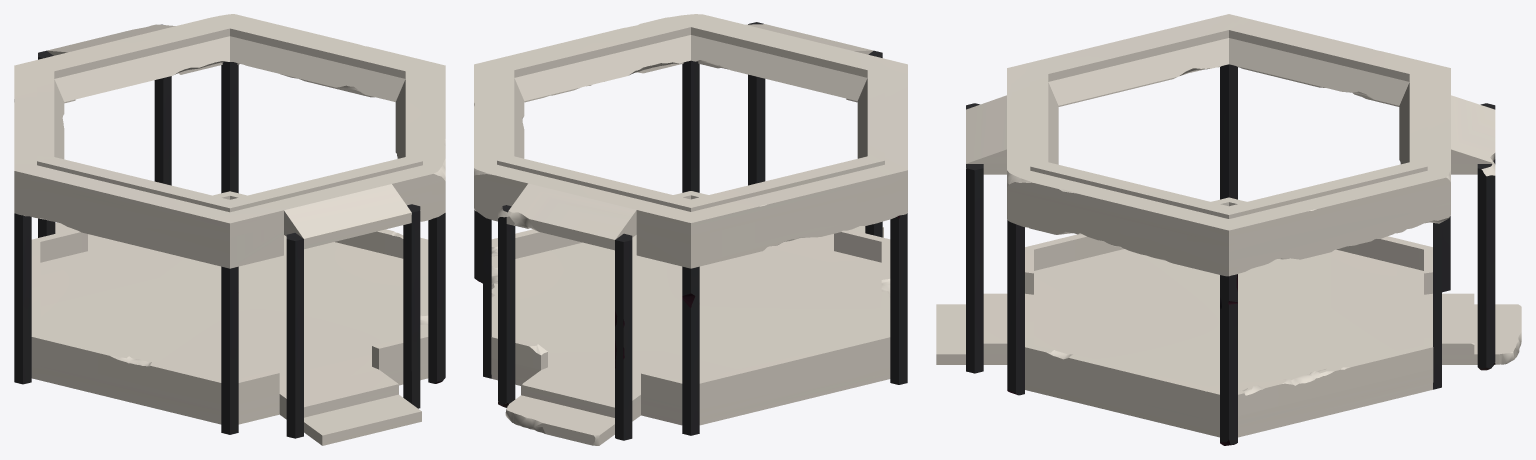
The model's file is starting area.gltf.
3 views of the same model, side by side, from view 1: azimuth 30°, elevation 25°; view 2: azimuth 150°, elevation 25°; view 3: azimuth 270°, elevation 25° (orthographic). The views are drawn at different scales.
Visible parts, largest first — view 1: starting room.001; view 2: starting room.001; view 3: starting room.001.
Boxes of the visible parts, x1=… form: starting room.001: x1=14, y1=14, x2=445, y2=445; starting room.001: x1=474, y1=14, x2=907, y2=445; starting room.001: x1=936, y1=14, x2=1521, y2=445.
Bounding box in the file's own units: 10.86 × 5.18 × 12.39.
1 material, 1 textured.
